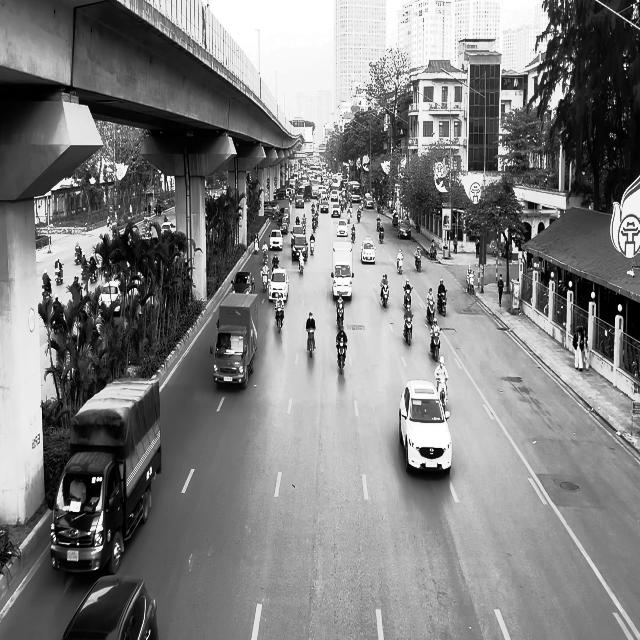car: (61, 574, 159, 640), (399, 380, 452, 476), (268, 268, 289, 302), (230, 271, 254, 294), (292, 235, 308, 260), (361, 237, 376, 263), (269, 229, 283, 250), (398, 220, 411, 239), (337, 218, 348, 237), (331, 203, 341, 217)
motorbike: (430, 328, 442, 362), (437, 376, 448, 411), (403, 312, 414, 346), (336, 342, 347, 374), (307, 328, 316, 357), (380, 282, 390, 308), (275, 306, 285, 332), (438, 292, 447, 316), (403, 286, 412, 310), (336, 306, 344, 331), (55, 263, 64, 285), (427, 301, 435, 324), (415, 250, 422, 271), (298, 252, 304, 274), (310, 234, 315, 254), (397, 258, 403, 274), (351, 224, 356, 242), (379, 227, 384, 243)
truck: (50, 375, 162, 576), (210, 292, 259, 389)
